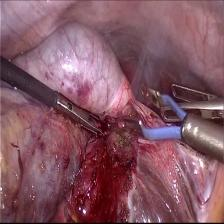Bipolar: (119, 82, 188, 159)
Grasper: (54, 90, 109, 145), (162, 75, 222, 121)
